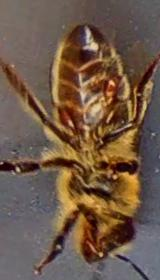varroa_mite: (57, 100, 79, 134), (97, 70, 121, 99)
